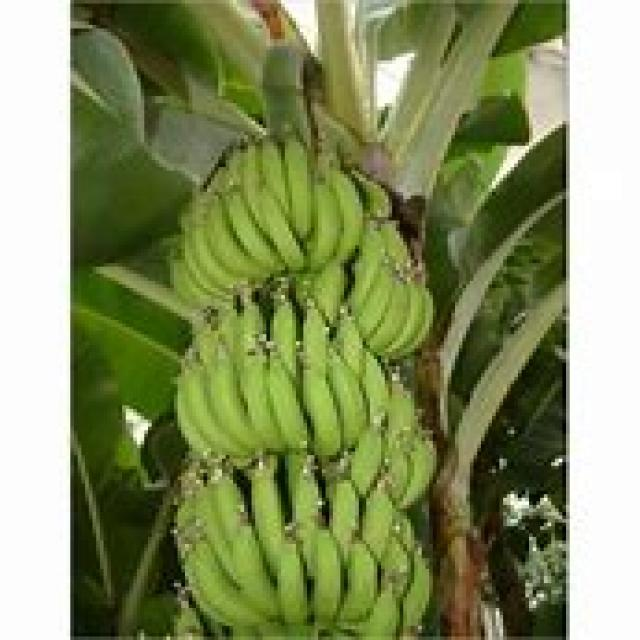Banana: (144, 89, 503, 640)
